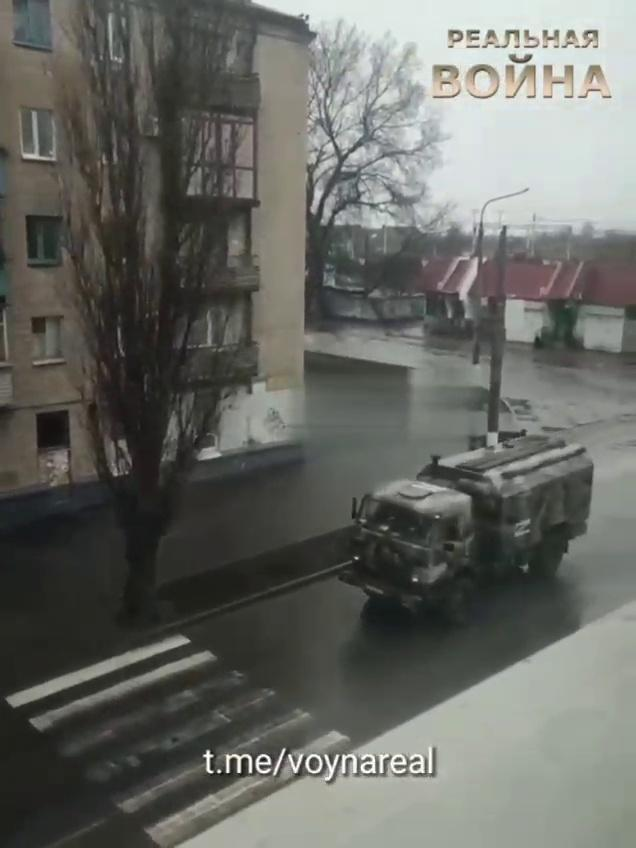truck: (337, 434, 596, 626)
